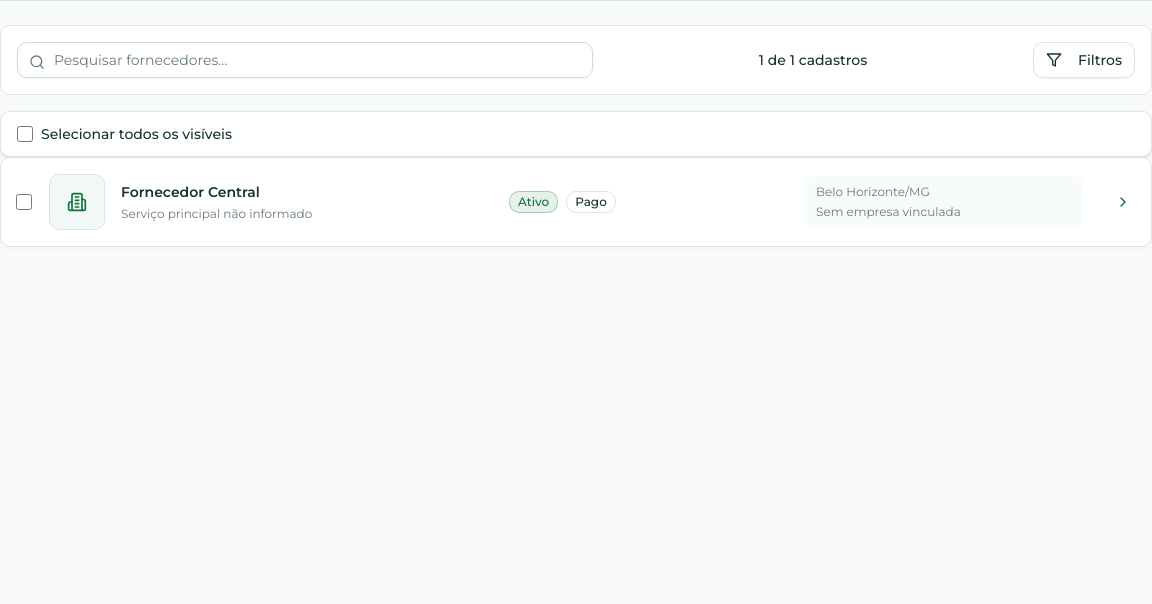
Test: fornecedores › permite pesquisar e abrir a edição contextual de um fornecedor
The width and height of the screenshot is (1152, 604).
Type "Central" into the field with placeholder "Pesquisar fornecedores…" at point(305, 60), box [17,42,593,78]
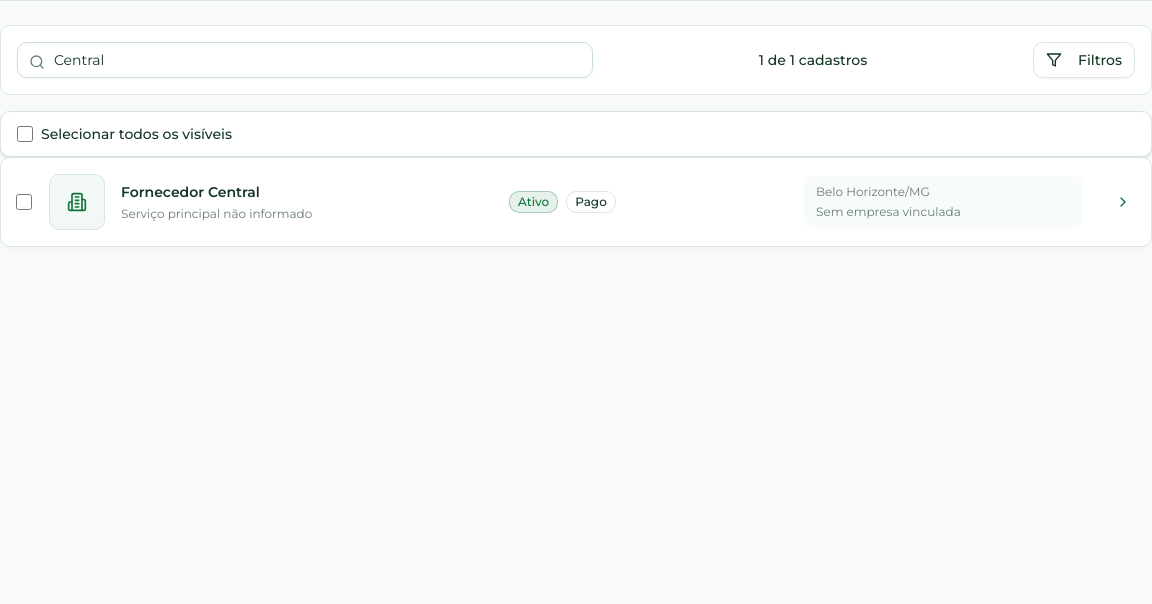
Click the button "Fornecedor Central" at point(576, 202), box [0,157,1151,247]
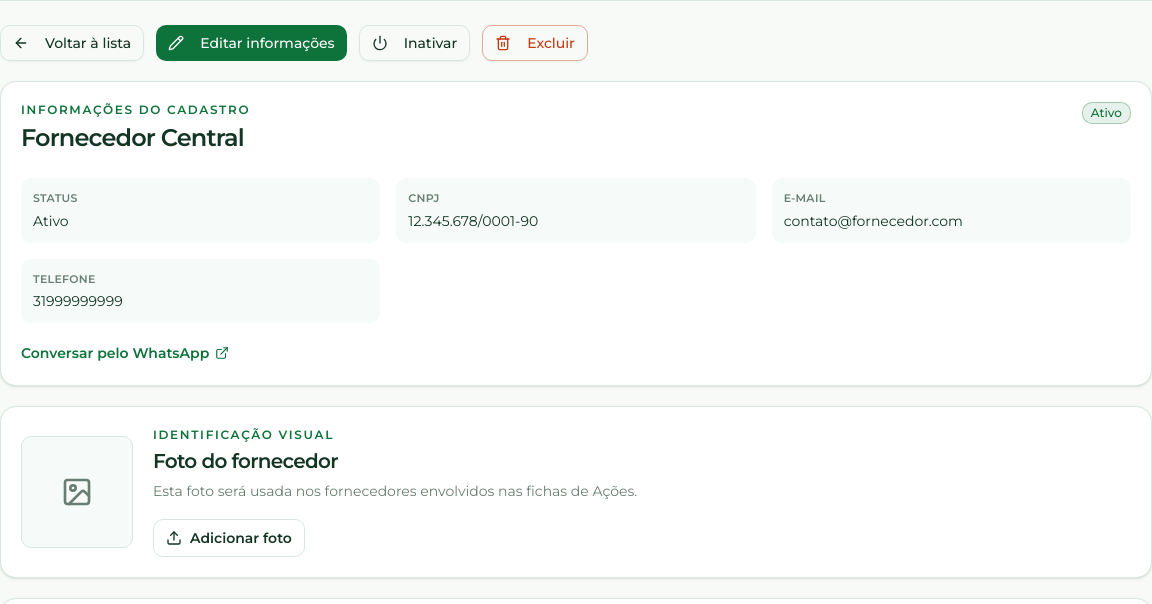
Check: the button "Editar informações" is shown
Click the button "Editar informações" at point(251, 43), box [156,25,347,61]
(page scrolled)
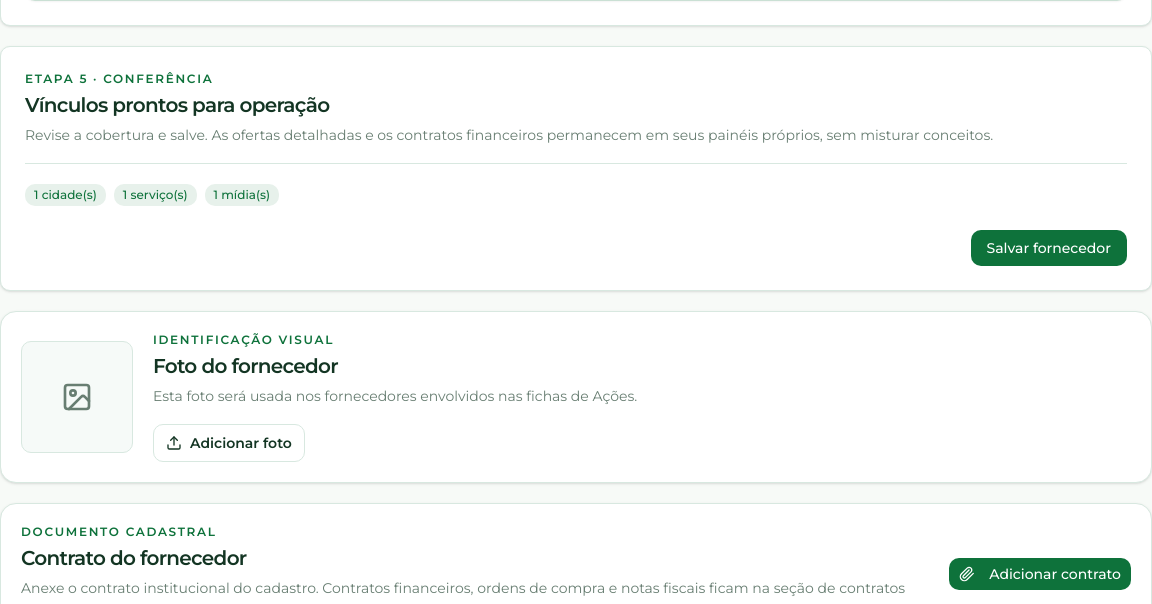
Check: the button "Salvar fornecedor" is shown, box [970,230,1127,266]
